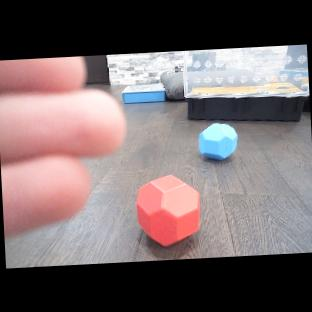V5_BLUE: (133, 174, 205, 249), (196, 119, 239, 163)
